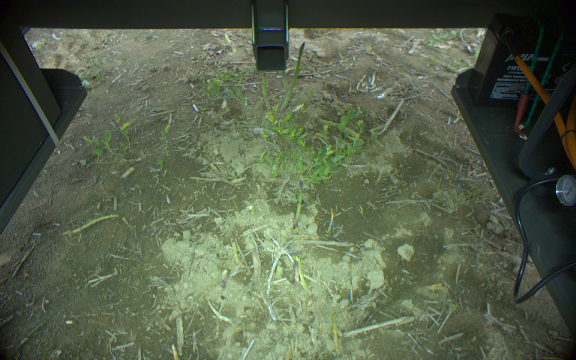aspa: (279, 40, 305, 113), (63, 212, 122, 237), (291, 179, 306, 230), (294, 254, 309, 293), (258, 70, 271, 111), (290, 260, 300, 284)
